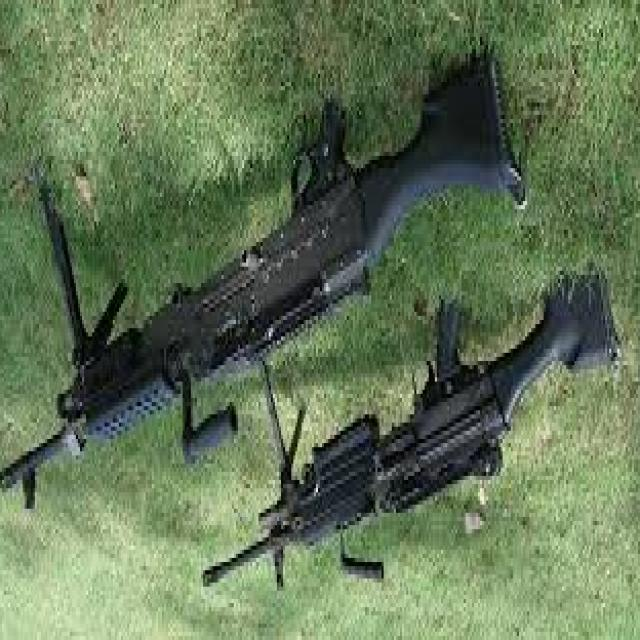Gun: (0, 29, 538, 517), (172, 272, 630, 604)
